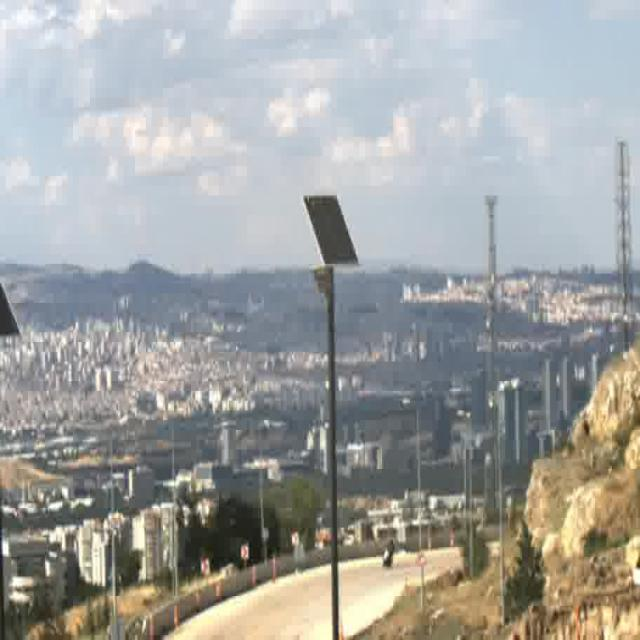Car: (383, 542, 395, 566)
